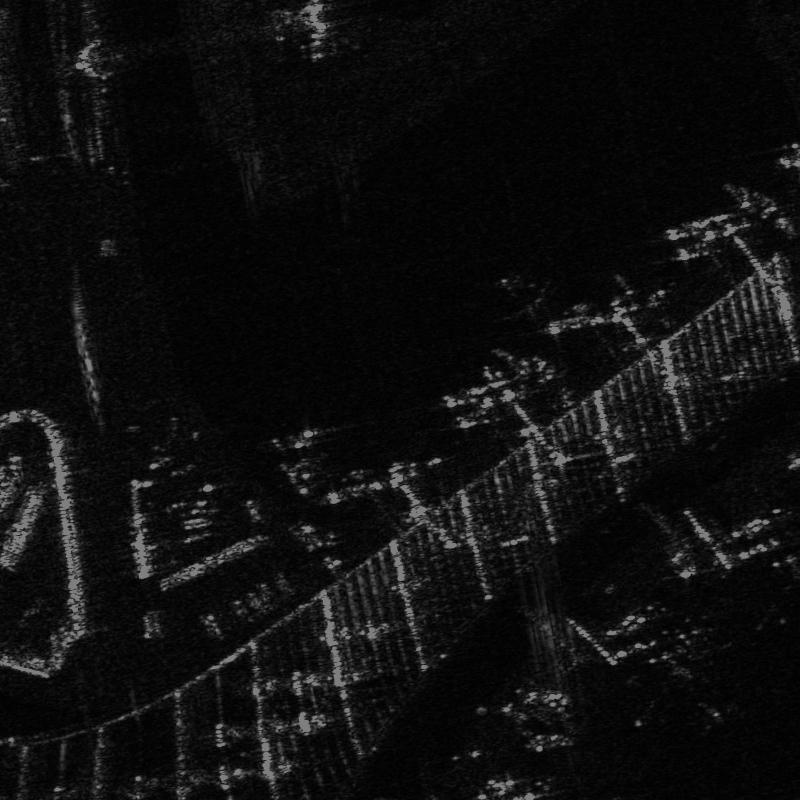Boeing787: (634, 633, 743, 725), (492, 273, 552, 324)
other: (757, 538, 799, 635)
